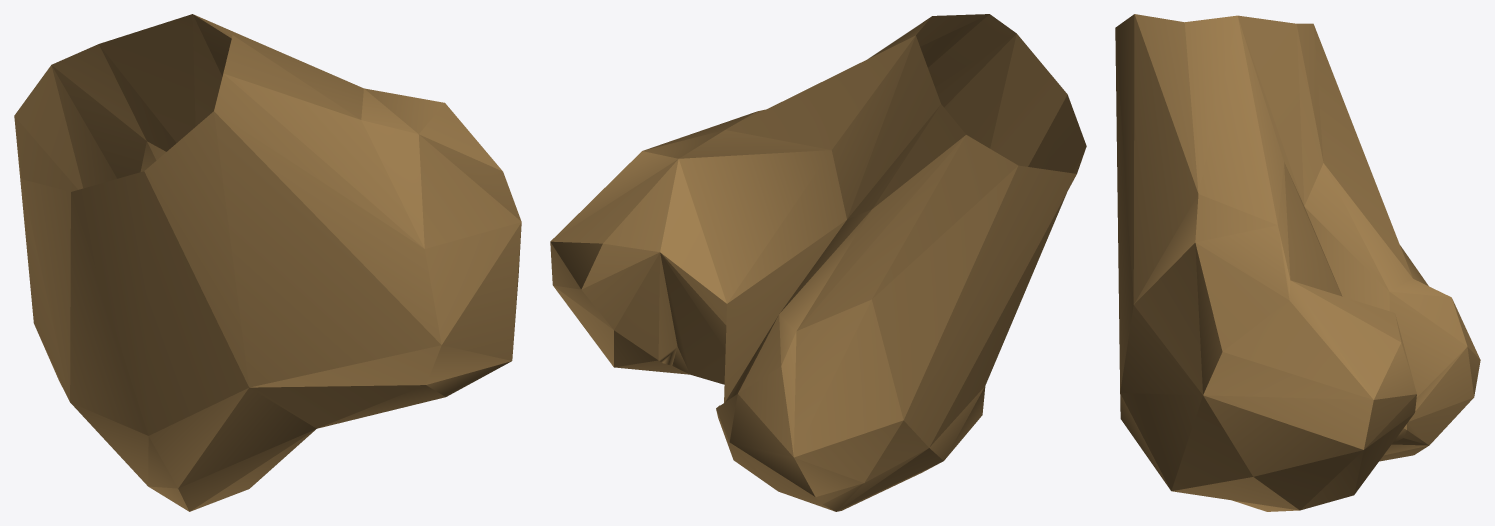
File: FEMUR-part.obj
3 views of the same model, side by side, from view 1: azimuth 30°, elevation 25°; view 2: azimuth 150°, elevation 25°; view 3: azimuth 270°, elevation 25° (orthographic). The views are drawn at different scales.
Parts seen in each view (by area): view 1: FEMUR_part:FEMUR; view 2: FEMUR_part:FEMUR; view 3: FEMUR_part:FEMUR.
Part boxes in pixels (x1=…): FEMUR_part:FEMUR: x1=14, y1=14, x2=521, y2=511; FEMUR_part:FEMUR: x1=550, y1=14, x2=1086, y2=511; FEMUR_part:FEMUR: x1=1115, y1=14, x2=1480, y2=511.
Size of the model in its own units: 28.37 by 25.92 by 19.2.
